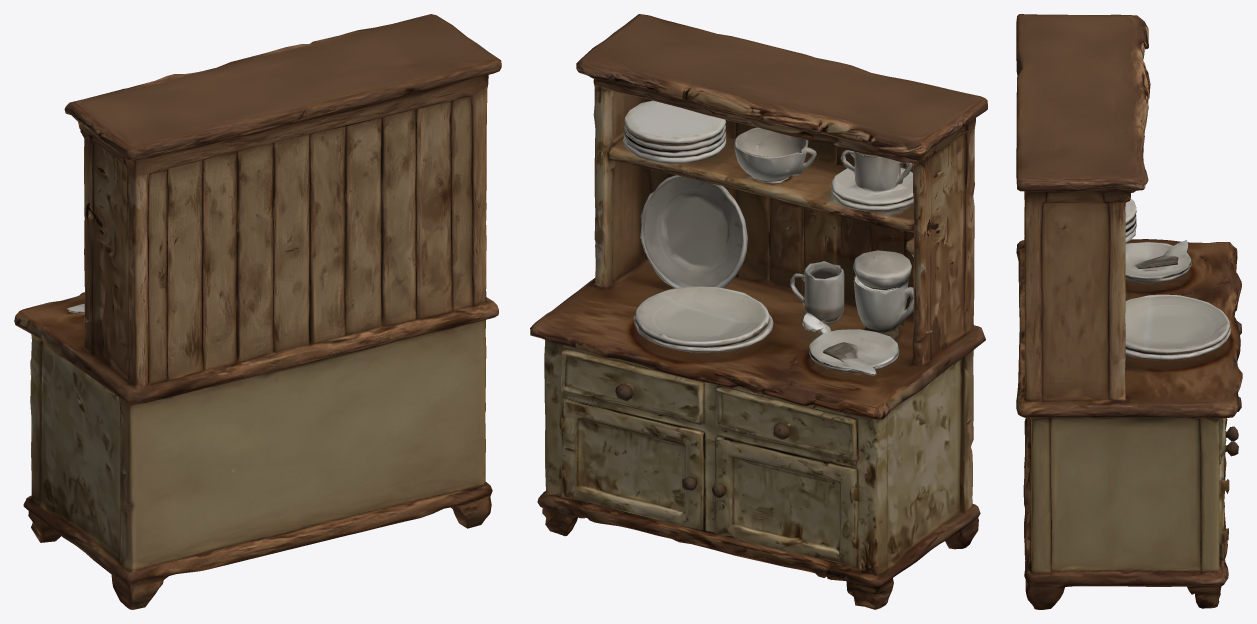
Rendered from theme-china-cabinet-v05.glb.
3 views of the same model, side by side, from view 1: azimuth 30°, elevation 25°; view 2: azimuth 150°, elevation 25°; view 3: azimuth 270°, elevation 25° (orthographic). The views are drawn at different scales.
Visible parts, largest first — view 1: tripo_node_fc611b68-413d-4454-b340-d4860d80550a; view 2: tripo_node_fc611b68-413d-4454-b340-d4860d80550a; view 3: tripo_node_fc611b68-413d-4454-b340-d4860d80550a.
Boxes of the visible parts, x1,y1,x2,y2 form: tripo_node_fc611b68-413d-4454-b340-d4860d80550a: [14, 14, 501, 609]; tripo_node_fc611b68-413d-4454-b340-d4860d80550a: [530, 14, 987, 609]; tripo_node_fc611b68-413d-4454-b340-d4860d80550a: [1016, 14, 1242, 609].
Size of the model in its own units: 1.55 by 1.85 by 0.8722.
1 material, 1 textured.
